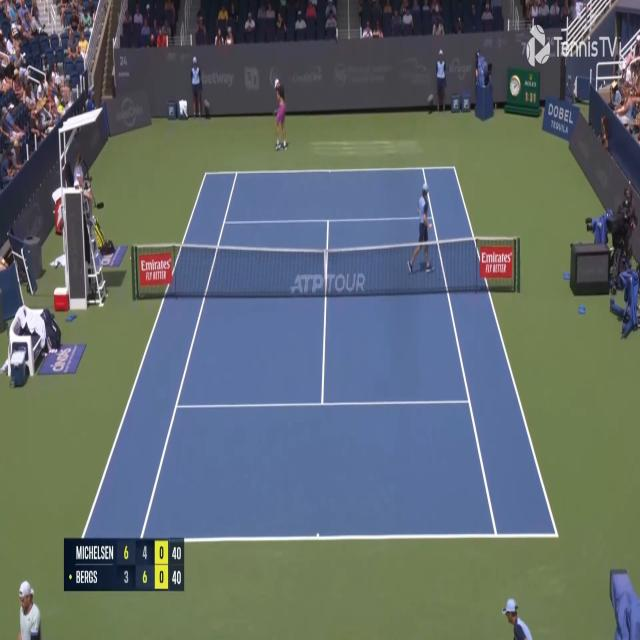tennis-player: (7, 578, 48, 639), (272, 77, 288, 154)
